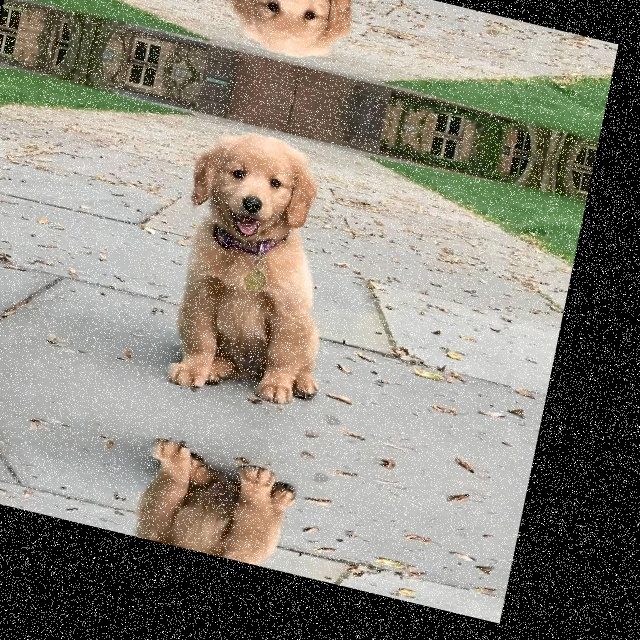dog: (170, 111, 336, 268), (209, 0, 369, 78)
